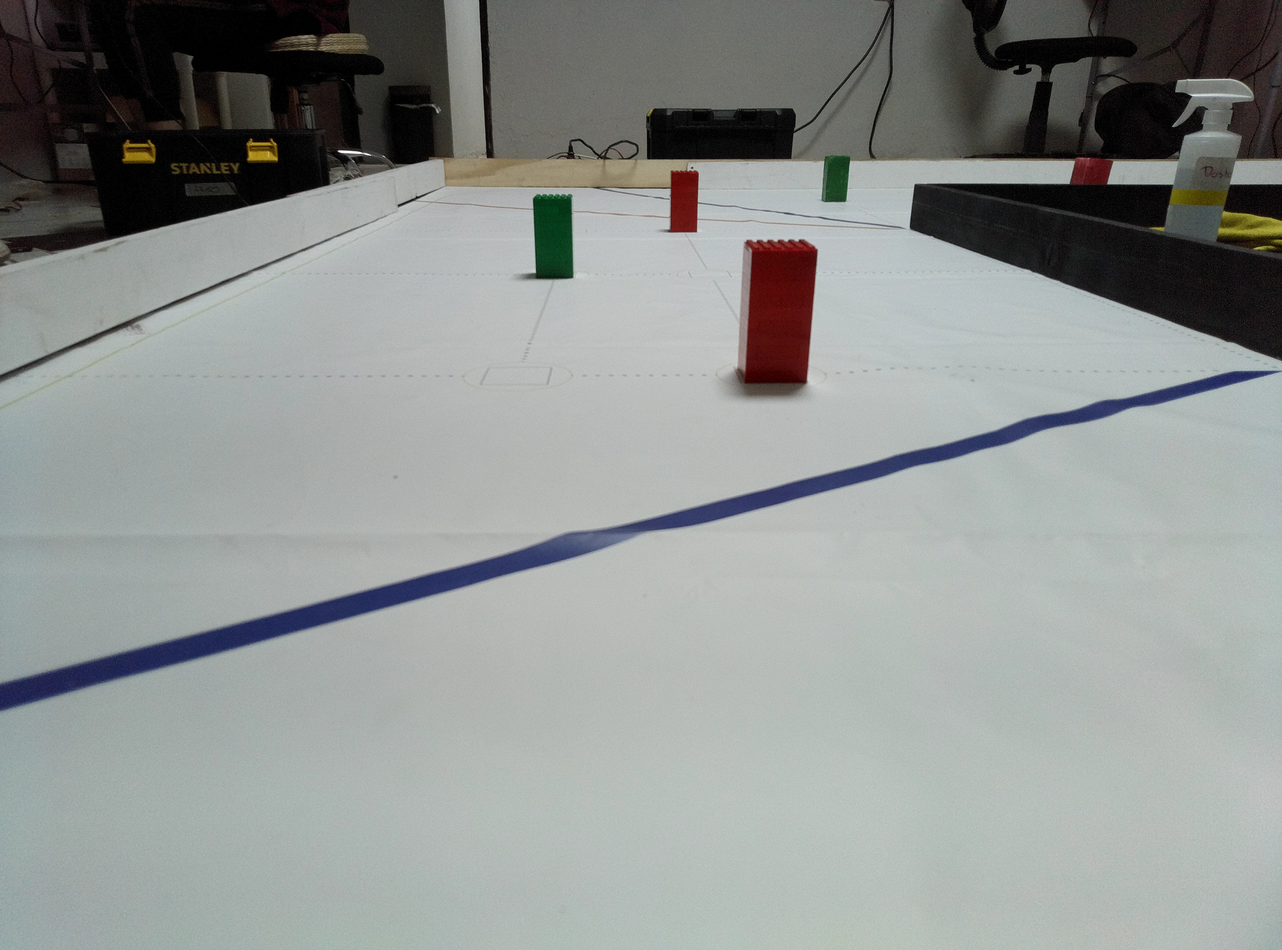greenbox: (530, 194, 579, 281), (821, 155, 852, 203)
redbox: (736, 237, 819, 388), (669, 169, 699, 233), (1069, 157, 1115, 185)
